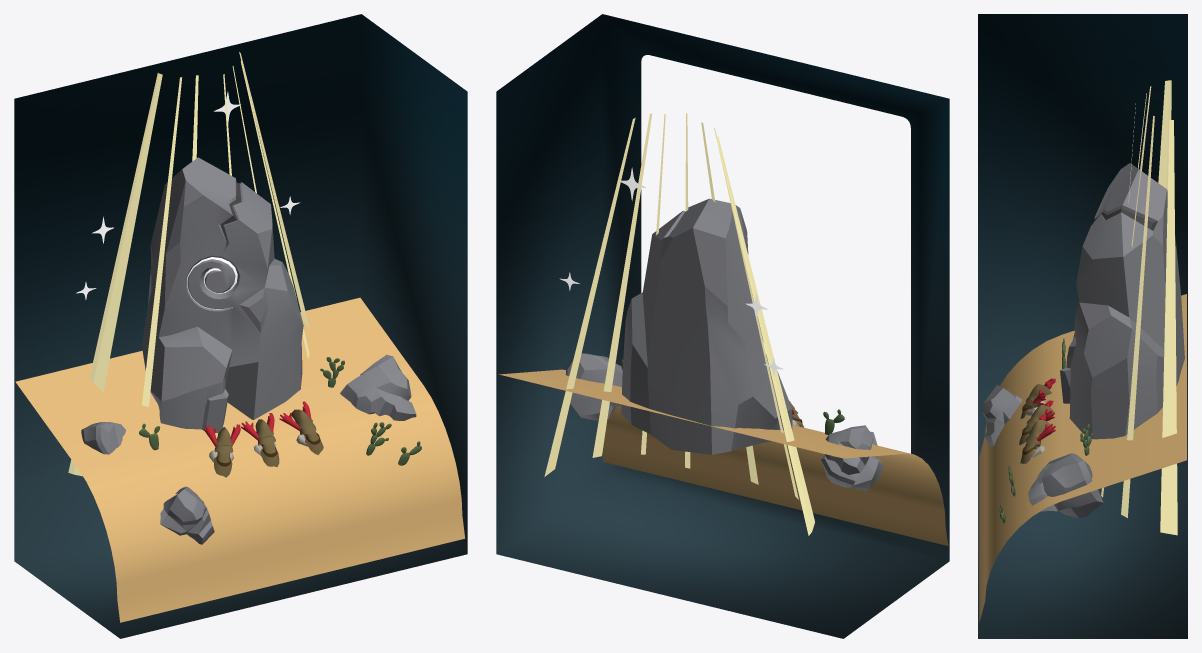
Rendered from 15_Cult.glb.
The picture shows the model from 3 angles, left to right: view 1: azimuth 30°, elevation 25°; view 2: azimuth 150°, elevation 25°; view 3: azimuth 270°, elevation 25°; orthographic projection.
Parts seen in each view (by area): view 1: 15_Cult_bg, 15_Cult; view 2: 15_Cult_bg, 15_Cult; view 3: 15_Cult_bg, 15_Cult.
Boxes of the visible parts, bbox=[...] form: 15_Cult_bg: bbox=[14, 14, 467, 638]; 15_Cult: bbox=[15, 52, 465, 622]; 15_Cult_bg: bbox=[496, 14, 949, 638]; 15_Cult: bbox=[499, 113, 948, 545]; 15_Cult_bg: bbox=[978, 14, 1187, 638]; 15_Cult: bbox=[979, 80, 1186, 622].
Bounding box in the file's own units: 2.76 × 3.51 × 1.46.
Materials: 2 (2 with a texture image).
